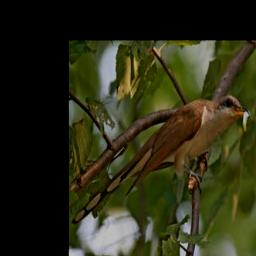Cuckoo: (71, 93, 254, 225)
